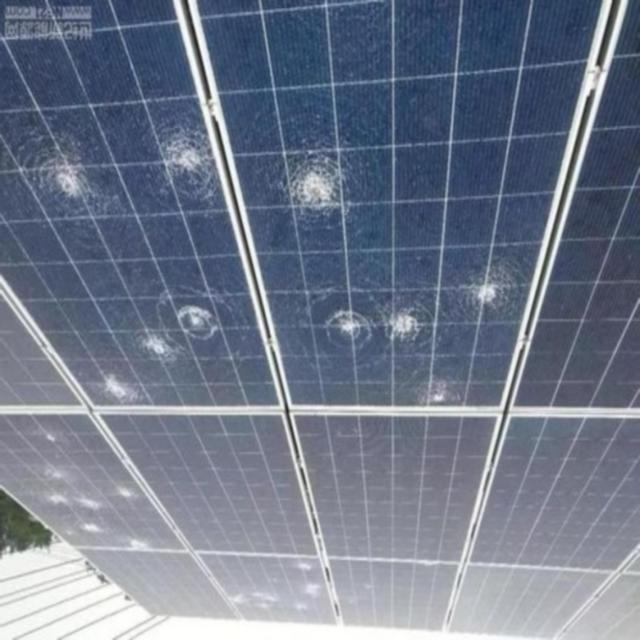cracked: (238, 1, 604, 414), (5, 1, 246, 403)
